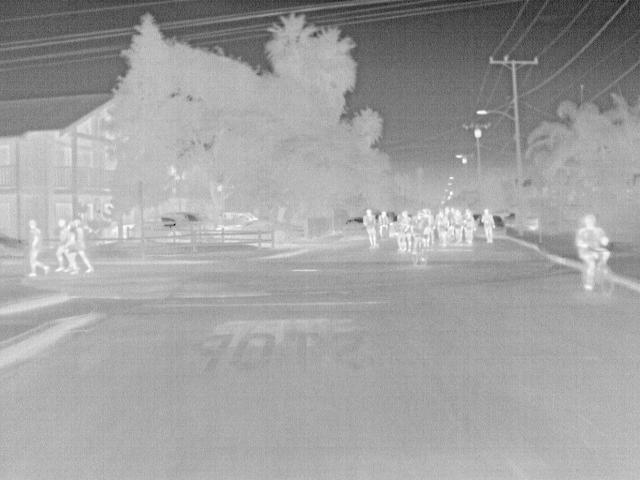car: (144, 214, 194, 232), (172, 211, 215, 230), (341, 216, 370, 242), (275, 219, 303, 242), (240, 218, 275, 232)
person: (577, 218, 611, 296), (27, 218, 50, 278), (75, 218, 98, 274), (408, 212, 432, 254), (55, 215, 69, 272), (65, 223, 80, 275), (434, 208, 451, 249), (398, 209, 414, 251), (480, 208, 499, 243), (363, 209, 380, 245), (462, 210, 478, 245), (377, 210, 391, 234)
